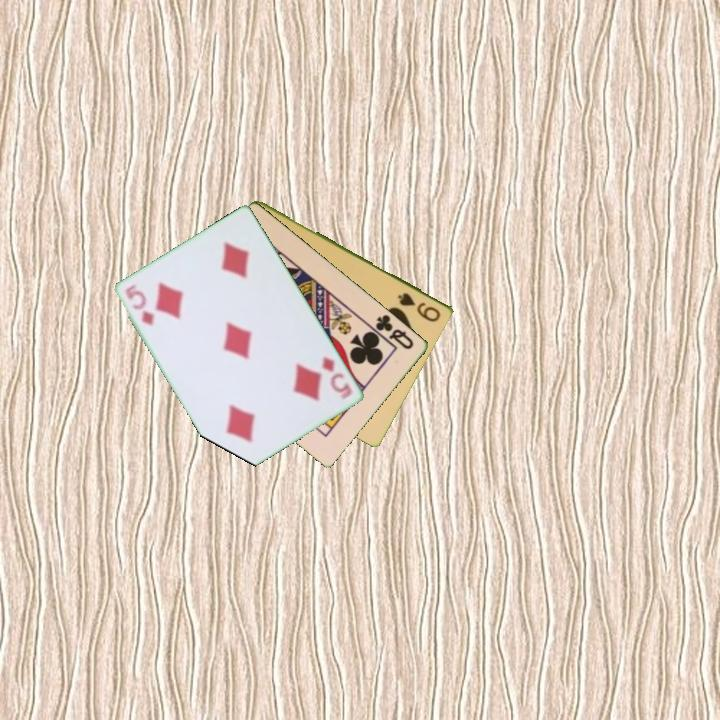5d: (319, 352, 356, 402), (122, 281, 157, 329)
9s: (395, 289, 444, 325)
Qc: (367, 310, 417, 353)
